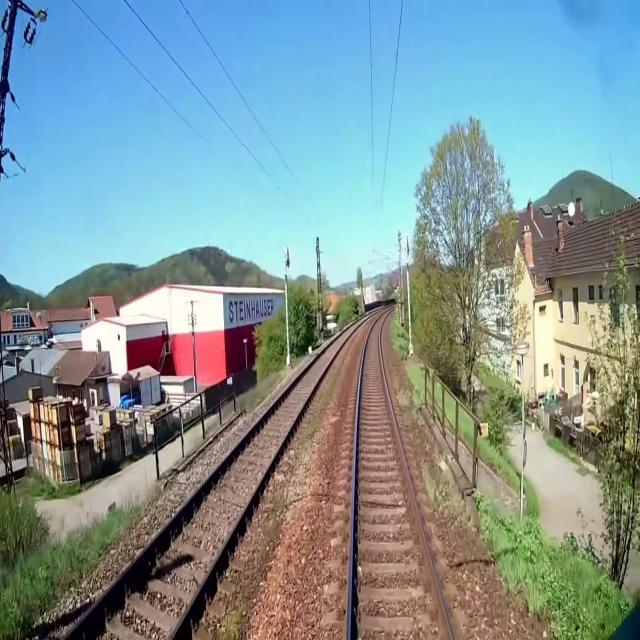rail-track: (69, 324, 356, 639), (351, 313, 450, 639)
